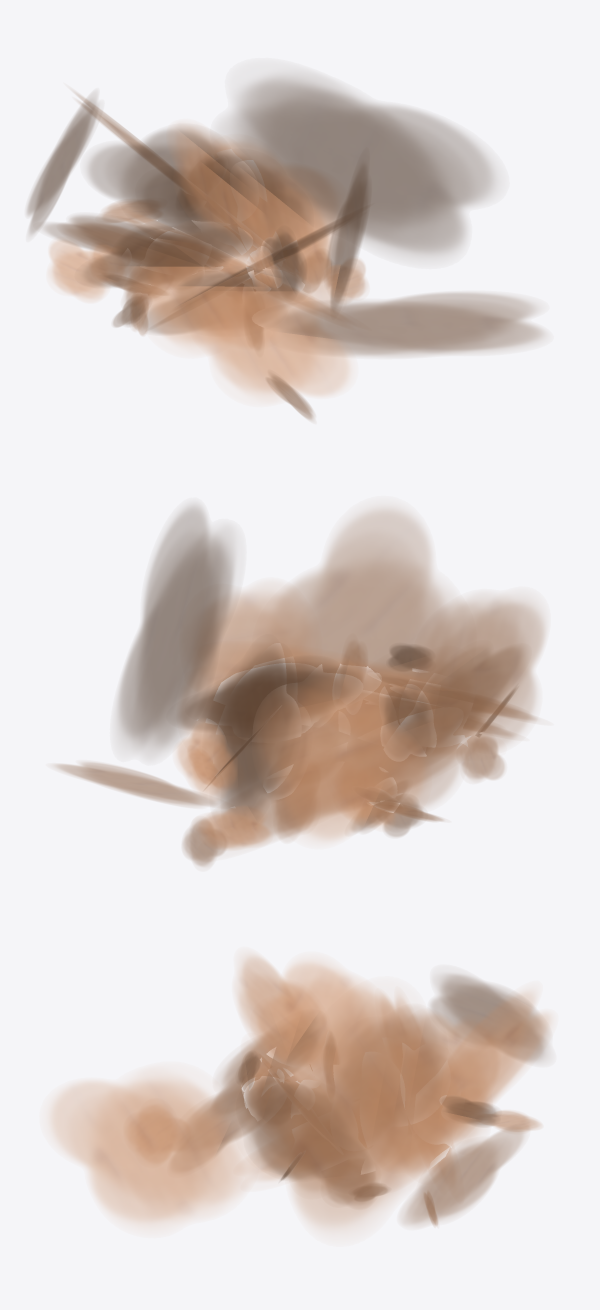
Rendered from desert_dust.glb.
The picture shows the model from 3 angles, top to bottom: view 1: azimuth 30°, elevation 25°; view 2: azimuth 150°, elevation 25°; view 3: azimuth 270°, elevation 25°; orthographic projection. The views are drawn at different scales.
Parts seen in each view (by area): view 1: dust; view 2: dust; view 3: dust.
Part boxes in pixels (left/top/right/bottom): dust: left=27, top=75, right=543, bottom=420; dust: left=55, top=505, right=545, bottom=866; dust: left=50, top=955, right=550, bottom=1230.
Size of the model in its own units: 1.36 by 1.04 by 1.82.
Materials: 1 (1 with a texture image).
